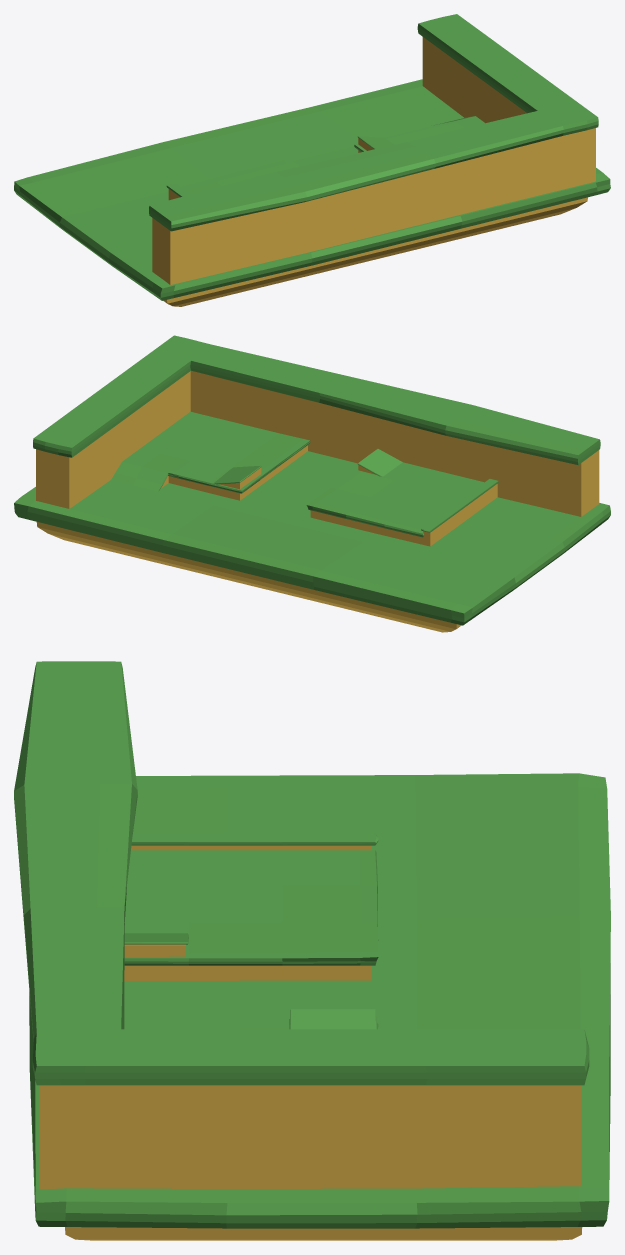
Rendered from level2.fbx.
The picture shows the model from 3 angles, top to bottom: view 1: azimuth 30°, elevation 25°; view 2: azimuth 150°, elevation 25°; view 3: azimuth 270°, elevation 25°; orthographic projection. The views are drawn at different scales.
Parts seen in each view (by area): view 1: Grass, Wall, GrassWall, BaseDirt, GrassRight, LeftGrass; view 2: Grass, Wall, GrassWall, LeftGrass, GrassRight, BaseDirt, BaseRight, LeftBase, GrassRight.001, RampRight, RampLeft; view 3: Grass, GrassWall, Wall, GrassRight, BaseDirt, BaseRight, GrassRight.001, RampLeft, LeftGrass, RampRight.
Part boxes in pixels (box(x1,y1,x2,y2)): Grass: box(14, 79, 610, 300); Wall: box(152, 37, 595, 284); GrassWall: box(149, 14, 598, 231); BaseDirt: box(163, 197, 587, 306); GrassRight: box(181, 158, 299, 194); LeftGrass: box(354, 116, 484, 152); Grass: box(14, 451, 610, 625); Wall: box(36, 370, 599, 516); GrassWall: box(33, 335, 600, 464); LeftGrass: box(111, 411, 310, 493); GrassRight: box(306, 462, 483, 537); BaseDirt: box(36, 522, 461, 632); BaseRight: box(310, 465, 497, 546); LeftBase: box(161, 445, 307, 500); GrassRight.001: box(421, 479, 498, 532); RampRight: box(357, 449, 402, 476); RampLeft: box(213, 465, 261, 484); Grass: box(29, 773, 610, 1228); GrassWall: box(14, 661, 589, 1085); Wall: box(39, 1085, 580, 1189); GrassRight: box(124, 850, 378, 965); BaseDirt: box(65, 1227, 582, 1240); BaseRight: box(124, 845, 371, 980); GrassRight.001: box(131, 833, 378, 845); RampLeft: box(289, 1009, 376, 1029); LeftGrass: box(124, 1022, 378, 1029); RampRight: box(124, 933, 188, 944).
Size of the model in its own units: 7679 by 1637 by 4483.
